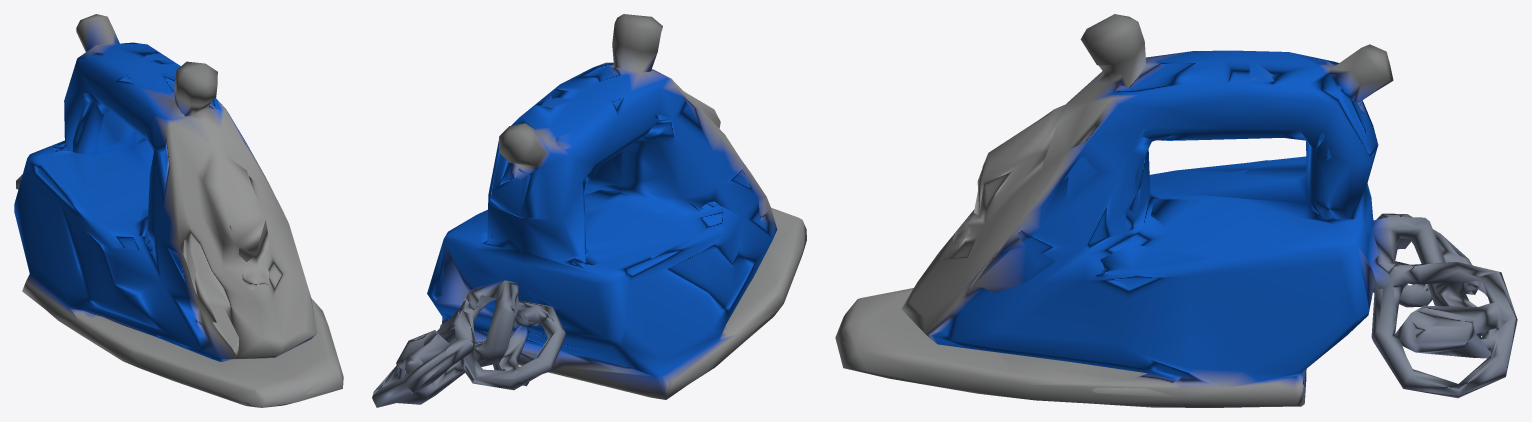
File: gen3d-clothes-iron-lod0.glb
3 renders of one model, left to right at view 1: azimuth 30°, elevation 25°; view 2: azimuth 150°, elevation 25°; view 3: azimuth 270°, elevation 25°, orthographic. The views are drawn at different scales.
Visible parts, largest first — view 1: part_0; view 2: part_0; view 3: part_0.
Boxes of the visible parts, x1,y1,x2,y2 form: part_0: (14,14,343,407); part_0: (372,14,806,407); part_0: (835,14,1517,407).
Bounding box in the file's own units: 0.8366 × 0.9902 × 1.88.
